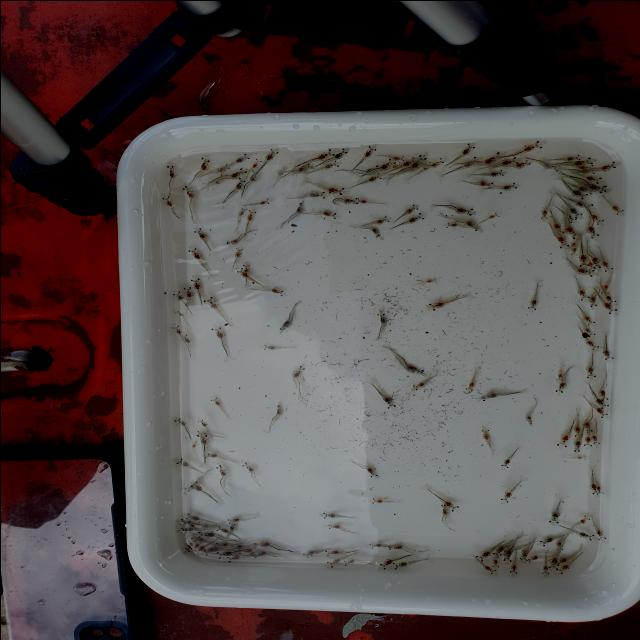babyshrimp: (569, 154, 599, 168), (474, 389, 502, 403), (400, 361, 427, 375), (520, 139, 549, 152), (312, 147, 337, 161), (459, 139, 479, 156), (199, 293, 219, 310), (379, 393, 399, 410), (261, 144, 280, 161), (274, 318, 294, 334), (482, 150, 503, 165), (582, 181, 608, 193), (596, 160, 622, 172), (210, 322, 228, 339), (289, 361, 306, 379), (562, 224, 581, 240), (410, 150, 427, 167), (554, 231, 570, 249), (422, 300, 448, 311), (406, 210, 428, 223), (592, 396, 612, 410), (425, 156, 448, 168), (409, 378, 430, 391), (554, 432, 571, 448), (601, 300, 618, 316), (185, 244, 202, 260), (464, 219, 483, 233), (510, 157, 532, 169), (239, 461, 259, 474), (498, 489, 515, 504), (266, 285, 289, 296), (537, 534, 555, 548), (567, 188, 588, 200), (234, 151, 255, 163), (331, 147, 350, 160), (172, 455, 191, 468), (565, 206, 584, 219), (577, 529, 597, 541), (582, 312, 597, 328), (574, 199, 594, 211), (366, 171, 386, 183), (323, 185, 347, 195), (189, 274, 204, 290), (195, 430, 211, 445), (547, 509, 561, 526), (593, 406, 610, 420), (589, 212, 606, 226), (463, 154, 480, 168), (376, 557, 394, 570), (235, 266, 253, 279), (451, 205, 474, 215), (229, 167, 248, 179), (526, 294, 538, 313), (363, 143, 378, 158), (553, 538, 569, 552), (583, 365, 599, 379), (584, 225, 600, 239), (184, 480, 200, 494), (499, 454, 512, 471), (403, 202, 420, 215), (554, 563, 572, 575), (583, 338, 601, 350), (213, 162, 231, 174), (198, 152, 210, 170), (594, 527, 609, 541), (601, 348, 615, 363), (599, 259, 614, 273), (159, 193, 174, 207), (171, 287, 185, 302), (478, 426, 492, 441), (215, 461, 229, 476), (521, 411, 535, 426), (320, 208, 339, 219), (474, 549, 490, 562), (380, 157, 396, 170), (239, 262, 251, 279), (608, 204, 626, 215), (474, 179, 496, 188), (497, 181, 519, 190), (489, 545, 503, 559), (192, 224, 206, 238), (502, 551, 515, 566), (364, 466, 379, 479), (553, 380, 565, 396), (582, 325, 598, 337), (245, 169, 257, 185), (576, 163, 595, 173), (323, 159, 342, 169), (582, 174, 603, 183), (258, 341, 279, 350), (324, 556, 341, 567), (553, 555, 570, 566), (233, 176, 246, 190), (182, 183, 195, 197), (575, 266, 593, 276), (499, 155, 517, 165), (180, 332, 195, 344), (463, 381, 478, 393), (208, 394, 223, 406), (275, 399, 285, 417), (171, 415, 189, 425), (577, 251, 588, 267), (375, 309, 386, 325), (391, 560, 410, 569), (165, 160, 175, 177), (369, 226, 382, 239), (318, 510, 339, 518), (518, 549, 530, 563), (577, 288, 589, 302), (222, 238, 246, 245), (590, 253, 601, 268), (293, 198, 304, 213), (572, 438, 582, 454), (587, 293, 597, 309), (309, 189, 325, 199), (581, 421, 594, 433), (597, 389, 610, 401), (236, 205, 248, 218), (231, 246, 243, 259), (170, 322, 183, 334), (196, 415, 209, 427), (192, 530, 214, 537), (214, 550, 231, 559), (374, 215, 391, 224), (483, 564, 498, 574), (572, 422, 582, 437), (399, 158, 414, 168), (488, 169, 509, 176), (223, 516, 241, 524), (252, 540, 270, 548), (301, 548, 317, 557), (323, 548, 341, 556), (389, 153, 405, 162), (184, 281, 193, 297), (547, 557, 558, 570), (604, 293, 617, 304), (599, 283, 612, 294), (190, 480, 203, 491), (508, 563, 518, 577), (184, 512, 201, 520), (250, 550, 267, 558), (565, 153, 582, 161), (201, 450, 218, 458), (189, 531, 204, 540), (202, 546, 217, 555), (259, 196, 274, 205), (339, 196, 354, 205), (486, 210, 501, 219), (588, 482, 599, 494), (590, 433, 601, 445), (245, 208, 256, 220), (193, 545, 206, 555), (577, 514, 590, 524), (595, 482, 605, 495), (249, 157, 262, 167), (323, 522, 341, 529), (498, 549, 512, 558), (182, 542, 193, 553), (539, 564, 549, 576), (582, 435, 592, 447), (539, 207, 549, 219), (526, 554, 539, 563), (173, 308, 186, 317), (174, 527, 192, 533), (553, 372, 565, 381), (342, 558, 357, 565), (368, 542, 383, 549), (386, 543, 402, 549), (356, 196, 368, 204), (370, 496, 383, 503), (424, 276, 437, 283), (176, 518, 191, 524), (445, 220, 456, 228), (214, 541, 231, 546), (215, 525, 227, 532), (490, 559, 499, 568), (572, 454, 587, 459), (228, 521, 235, 529), (190, 440, 197, 447)
